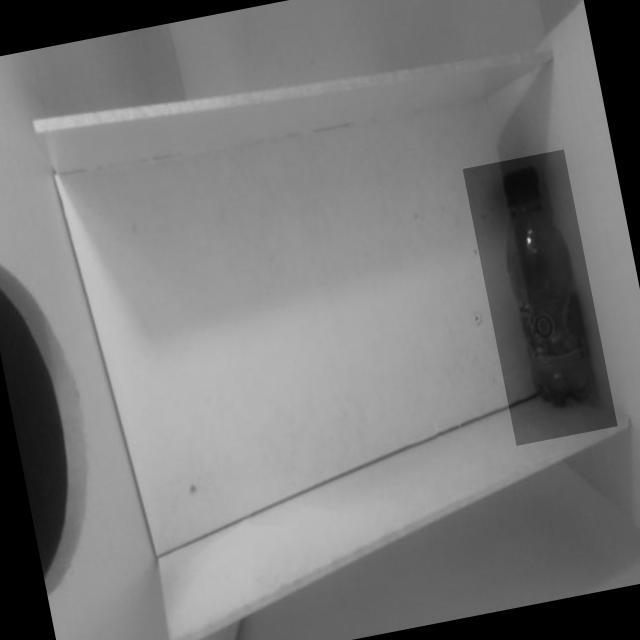good: (464, 150, 619, 446)
